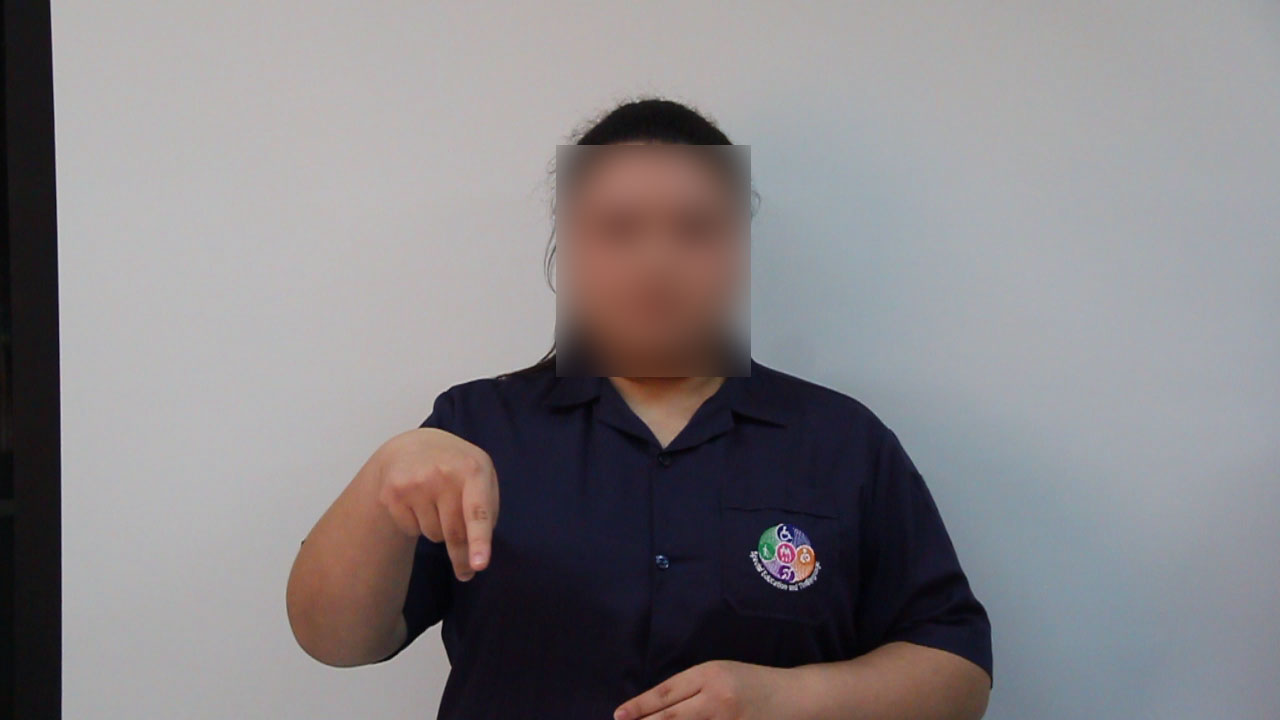por: (360, 410, 523, 588)
